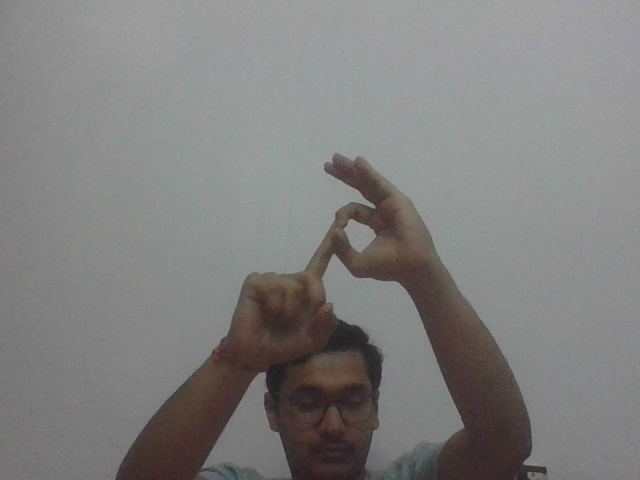Q: (259, 151, 416, 333)
